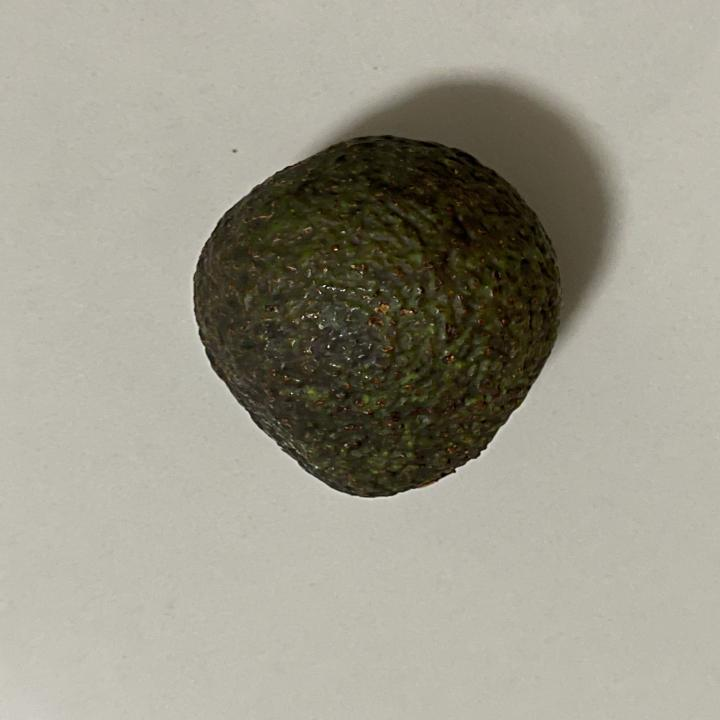Level1: (182, 124, 580, 514)
